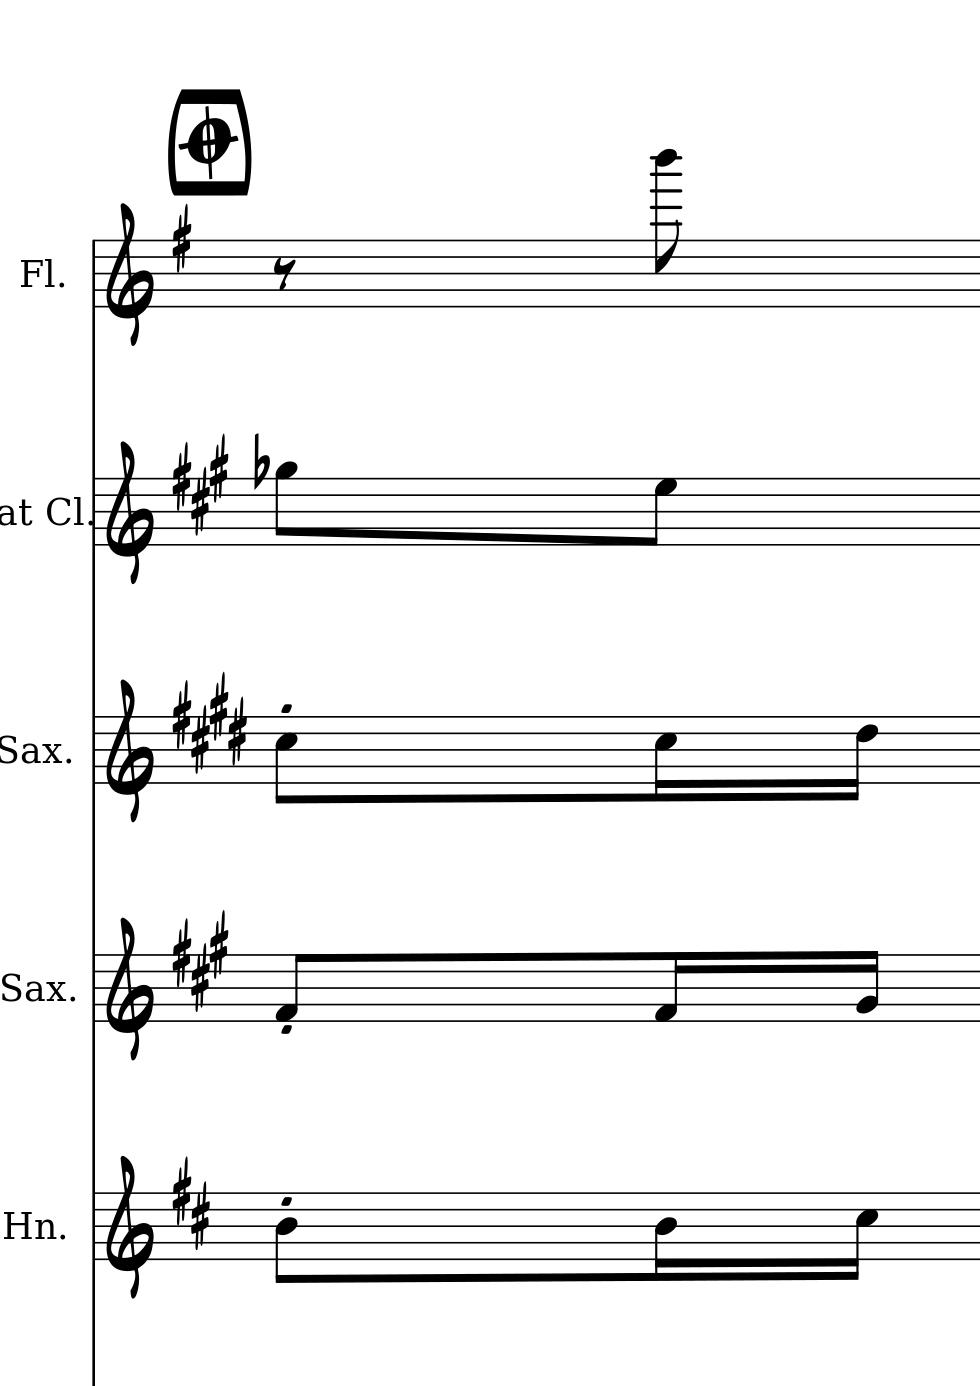16_1: (651, 951, 688, 1024)
16_2: (855, 949, 881, 1024)
16_4: (653, 1189, 678, 1283)
16_5: (844, 1190, 878, 1282), (652, 714, 678, 804)
16_6: (844, 714, 878, 802)
8_1: (272, 952, 308, 1023)
8_18: (649, 146, 683, 311)
8_4: (272, 1190, 298, 1286)
8_5: (273, 713, 298, 805)
8_7: (643, 476, 676, 547)
8_9: (272, 460, 298, 546)
A_S: (170, 911, 233, 1011), (170, 434, 229, 534)
Cl: (43, 493, 83, 529)
Coda: (181, 105, 235, 175)
D_S: (170, 1152, 210, 1249)
E_S: (169, 672, 250, 771)
Fl: (17, 255, 56, 292)
Flat: (250, 431, 268, 492)
Gclef: (101, 1153, 157, 1300), (103, 916, 159, 1063), (103, 677, 158, 824), (104, 440, 156, 585), (103, 200, 154, 345)
Hn: (1, 1207, 56, 1246)
Rests8: (272, 256, 297, 290)
Sax: (1, 968, 68, 1012), (1, 731, 65, 774)
Sharp: (169, 203, 193, 273)
Single_barline: (87, 477, 101, 547), (86, 716, 100, 785), (87, 240, 101, 308), (87, 955, 100, 1023), (87, 1193, 100, 1261)
